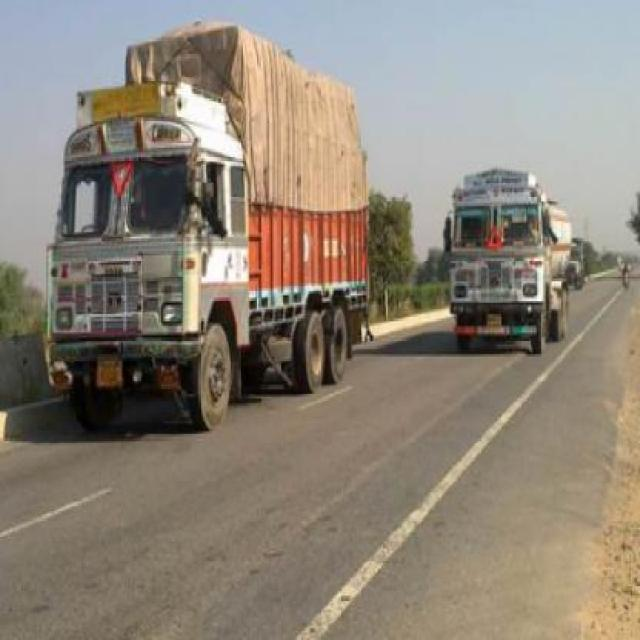truck: (34, 12, 378, 444), (431, 164, 610, 362)
